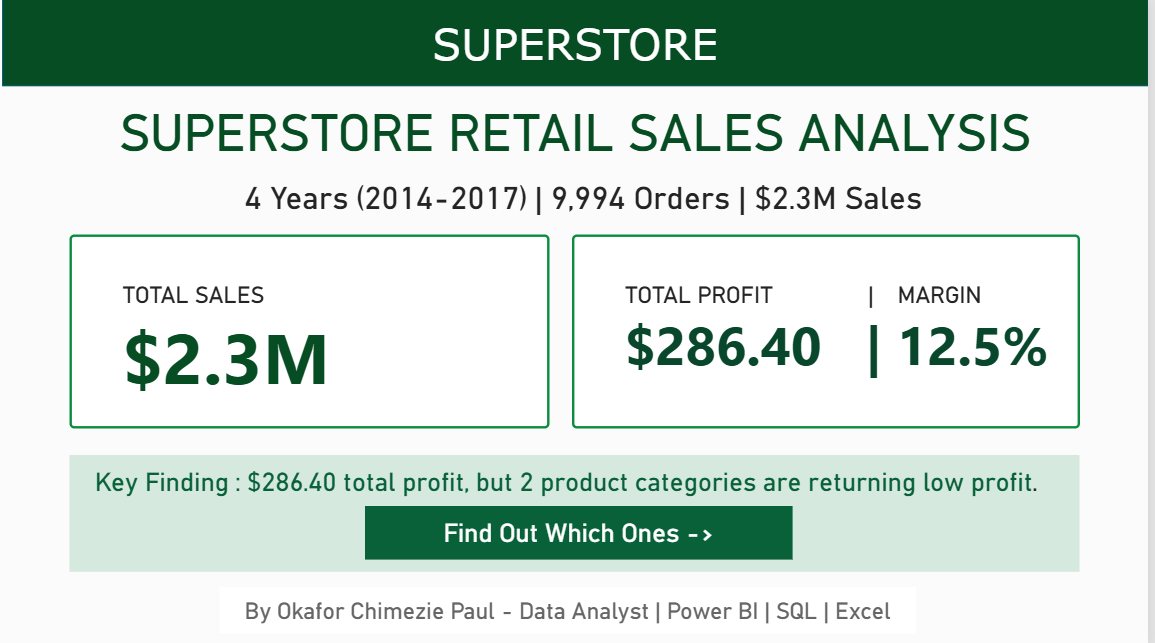

The page's visual inventory and layout, read from the dashboard file:
{"tool":"powerbi","page":{"name":"HOME","canvas":[1920,1080],"ordinal":0},"visuals":[{"type":"shape","box":[9.4,0,1910.8,145.4],"z":0},{"type":"textbox","box":[9.4,173.5,1910.8,110.2],"z":1},{"type":"textbox","box":[9.4,300.1,1910.8,72.7],"z":9},{"type":"textbox","box":[121.9,391.5,800,323.5],"z":10},{"type":"textbox","box":[958.9,391.5,846.4,323.5],"z":11},{"type":"textbox","box":[121.9,759.6,1683.3,194.6],"z":12},{"type":"actionButton","box":[614.3,844,712.7,89.1],"z":13},{"type":"shape","box":[398.6,989.4,1160.5,63.3],"z":14}]}

Visuals, with their boxes in screenshot pixels (x1, y1, x2, y2), scaled from the page's 1920x1080 canvas onto the 1155x643 screenshot:
shape: BBox(6, 0, 1154, 87)
textbox: BBox(6, 103, 1154, 169)
textbox: BBox(6, 179, 1154, 222)
textbox: BBox(73, 233, 555, 426)
textbox: BBox(577, 233, 1086, 426)
textbox: BBox(73, 452, 1086, 568)
actionButton: BBox(370, 502, 798, 556)
shape: BBox(240, 589, 938, 627)
